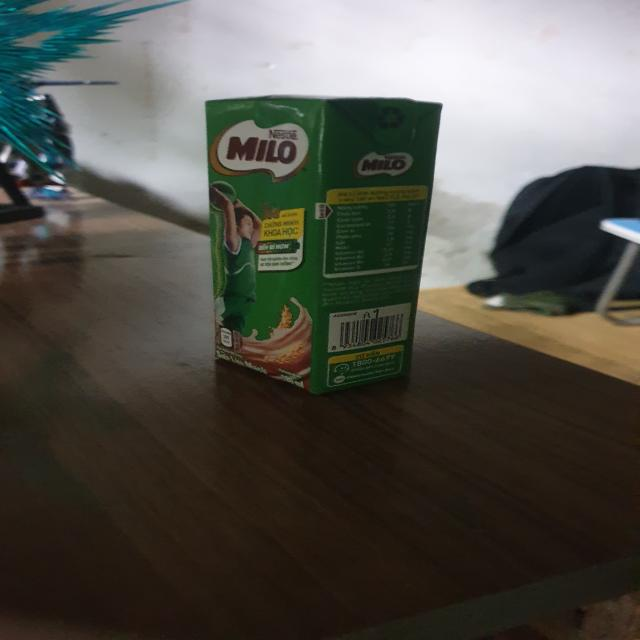Milo: (201, 96, 443, 398)
